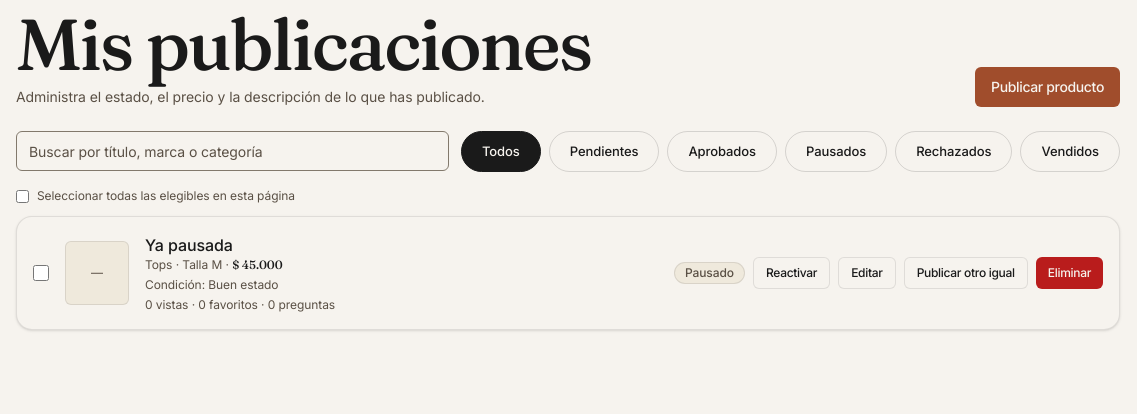
Test: MisProductosPage › deshabilita Pausar seleccionadas cuando ninguna seleccionada se puede pausar
Expected: the element with test id "mine-product-p33" is shown, [16, 216, 1120, 330]
Step 1. Click the checkbox named "seleccionar ya pausada" → {"x": 41, "y": 273}, box [33, 265, 49, 281]
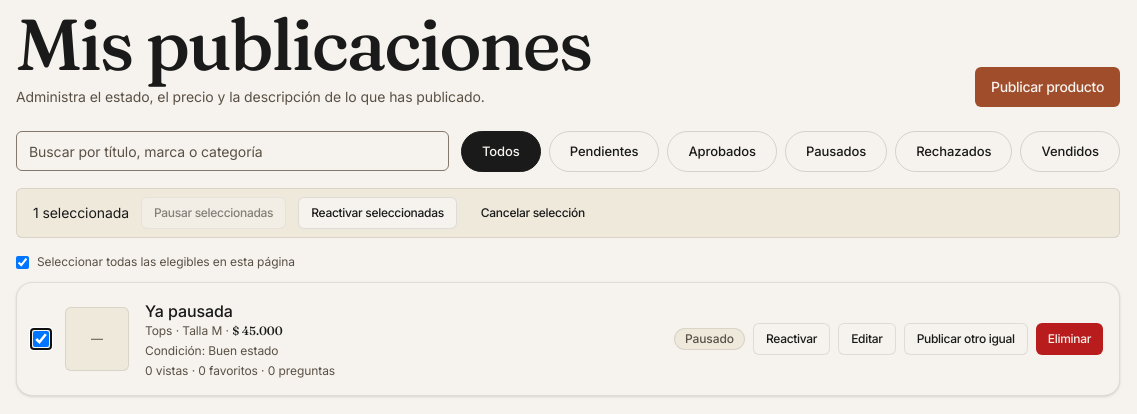
Now the button "Pausar seleccionadas" is disabled, box [141, 197, 286, 229]
Now the button "Reactivar seleccionadas" is enabled, box [298, 197, 457, 229]
